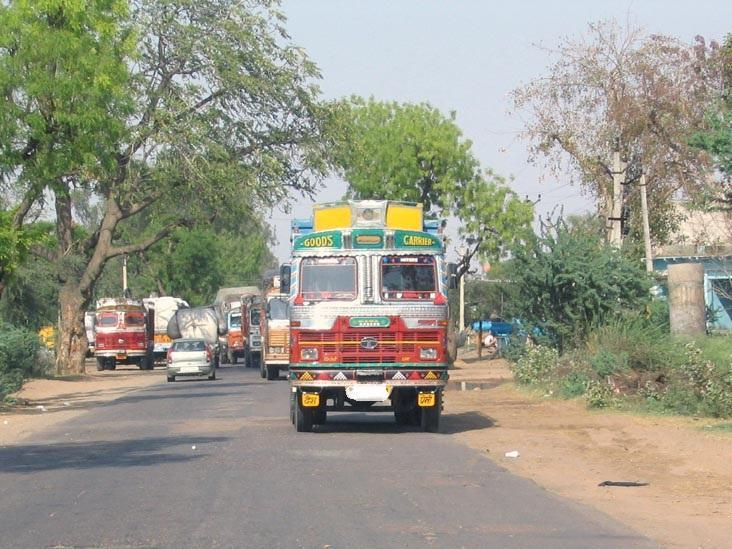truck: (283, 213, 462, 432)
